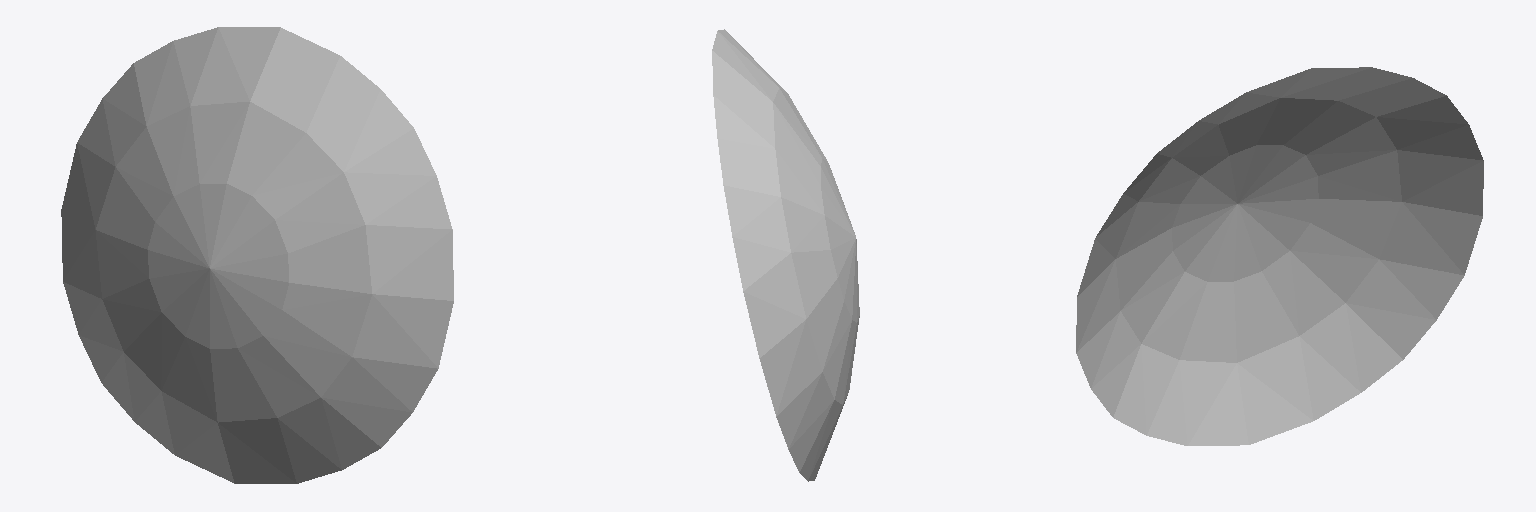
The model's file is furina.018.obj.
The picture shows the model from 3 angles: view 1: azimuth 30°, elevation 25°; view 2: azimuth 150°, elevation 25°; view 3: azimuth 270°, elevation 25°; orthographic projection.
Visible parts, largest first — view 1: furina.018_神之眼.001; view 2: furina.018_神之眼.001; view 3: furina.018_神之眼.001.
Boxes of the visible parts, <box> form: furina.018_神之眼.001: <box>61,27,453,483</box>; furina.018_神之眼.001: <box>712,29,859,481</box>; furina.018_神之眼.001: <box>1076,67,1483,445</box>.
Bounding box in the file's own units: 0.0423 × 0.0804 × 0.0716.